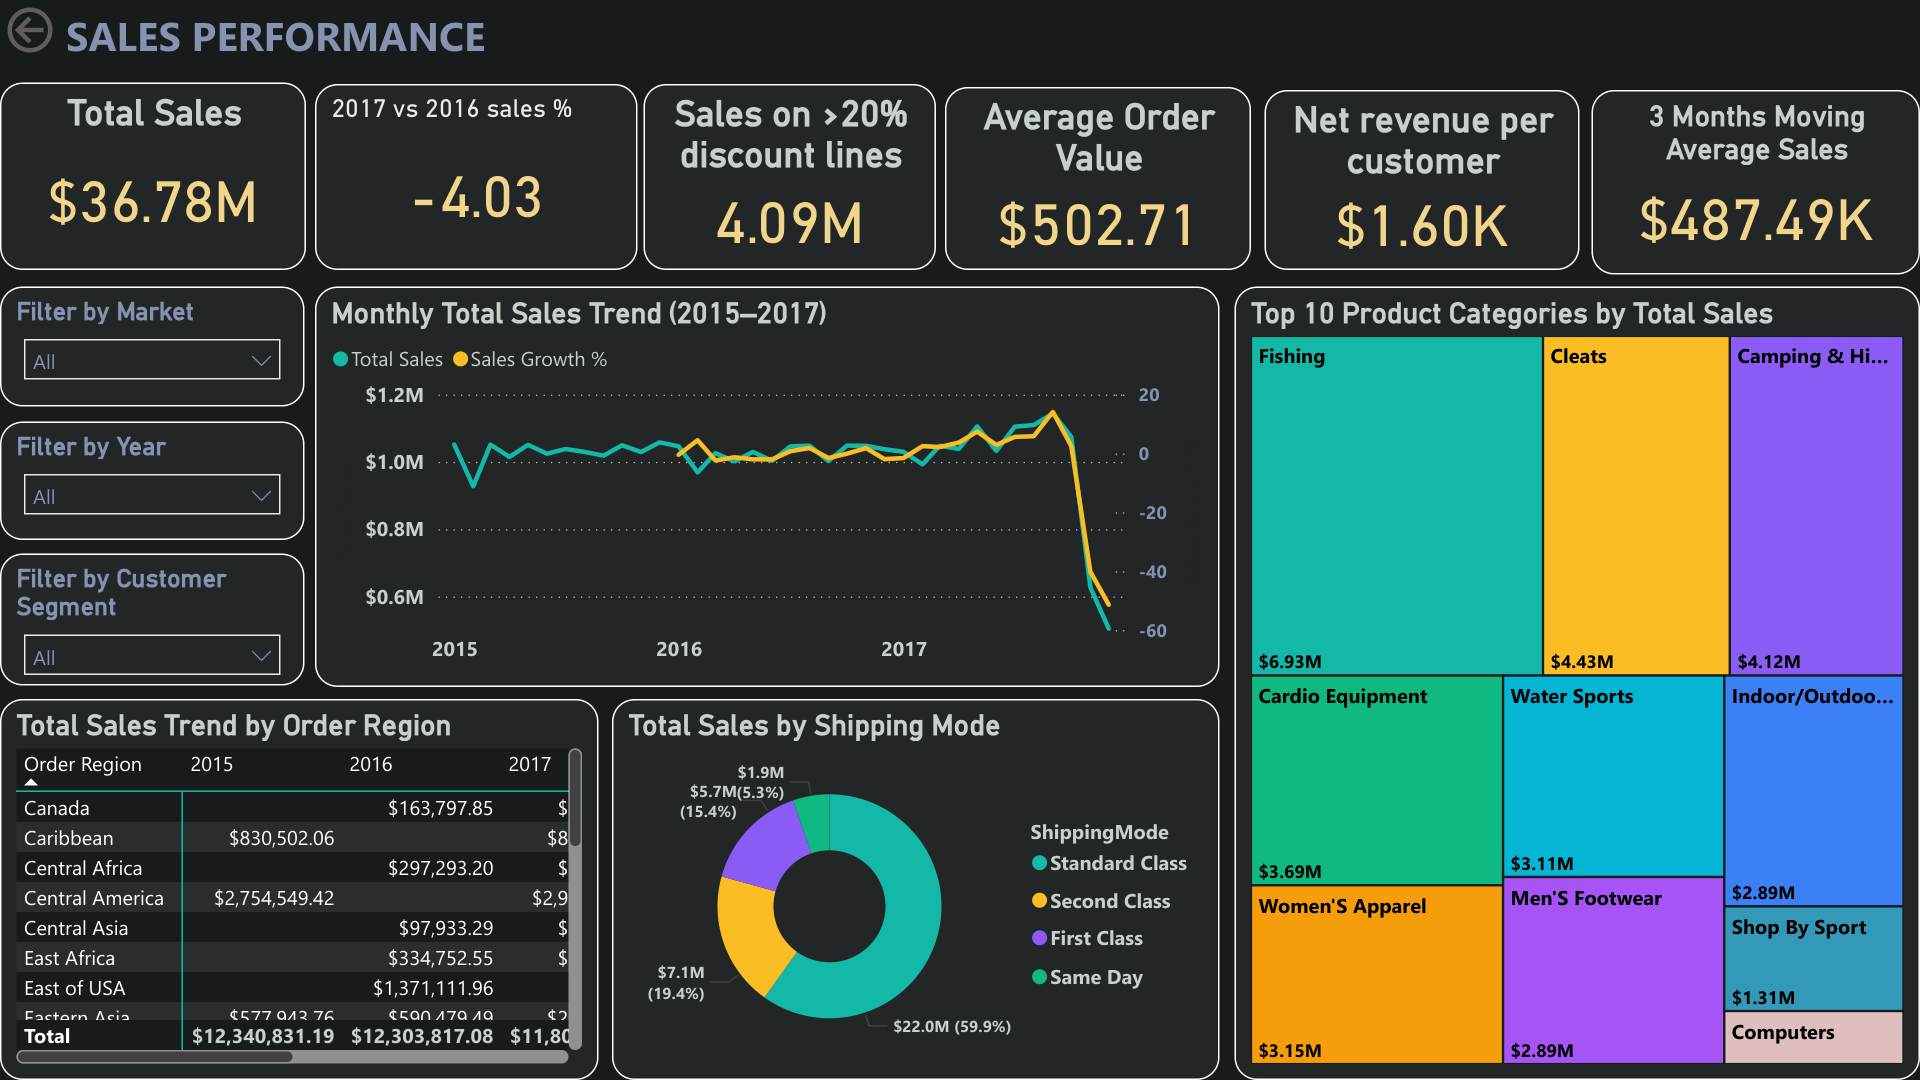

The dashboard page shown, as its layout file describes it:
{"tool":"powerbi","page":{"name":"Sales Performance","canvas":[1280,720],"ordinal":2},"visuals":[{"type":"card","title":"Total Sales","fields":{"Values":["FactOrderItem.Total Sales"]},"box":[0,55.5,203.6,124.5],"z":0},{"type":"card","title":"2017 vs 2016 sales %","fields":{"Values":["DimDate.Latest Full-Year Sales Growth %"]},"box":[210,56.4,215.5,123.6],"z":1000},{"type":"card","title":"Sales on >20% discount lines","fields":{"Values":["FactOrderItem.High Discount Orders Impact"]},"box":[429.1,56.4,194.5,123.6],"z":2000},{"type":"card","title":"Average Order Value","fields":{"Values":["FactOrderItem.Avg Order Value"]},"box":[630,57.5,203.8,122.5],"z":3000},{"type":"lineChart","title":"Monthly Total Sales Trend (2015–2017)","fields":{"Y":["FactOrderItem.Total Sales"],"Y2":["DimDate.Sales Growth %"],"Category":["DimDate.MonthYear"]},"box":[210,191.2,602.5,266.2],"z":4000},{"type":"card","title":"3 Months Moving Average Sales","fields":{"Values":["DimDate.Sales 3M Moving Avg"]},"box":[1061.2,60,218.8,122.5],"z":5000},{"type":"donutChart","title":"Total Sales by Shipping Mode","fields":{"Category":["DimShipping.ShippingMode"],"Y":["FactOrderItem.Total Sales"]},"box":[407.5,466.2,405,253.8],"z":6000},{"type":"pivotTable","title":"Total Sales Trend by Order Region","fields":{"Rows":["DimLocation.OrderRegion"],"Values":["FactOrderItem.Total Sales"],"Columns":["DimDate.Year"]},"box":[0,466.2,398.8,253.8],"z":7000},{"type":"textbox","box":[38.8,0,295,46.2],"z":8000},{"type":"slicer","title":"Filter by Market","fields":{"Values":["DimLocation.Market"]},"box":[0,190.7,203.5,80.2],"z":9000},{"type":"slicer","title":"Filter by Year","fields":{"Values":["DimDate.Year"]},"box":[0,281.4,203.5,79.1],"z":10000},{"type":"slicer","title":"Filter by Customer Segment","fields":{"Values":["DimCustomer.CustomerSegment"]},"box":[0,368.6,203.5,88.4],"z":11000},{"type":"card","title":"Net revenue per customer","fields":{"Values":["FactOrderItem.Sales per Customer"]},"box":[842.5,60,210,120],"z":12000},{"type":"treemap","title":"Top 10 Product Categories by Total Sales","fields":{"Group":["DimProduct.CategoryName"],"Values":["FactOrderItem.Total Sales"]},"box":[822.5,191.2,457.5,528.8],"z":13000},{"type":"actionButton","box":[0,0,100,40],"z":14000}]}

Visuals, with their boxes in screenshot pixels (x1, y1, x2, y2), scaled from the page's 1280x720 canvas onto the 1920x1080 screenshot:
"Total Sales" card: bbox(0, 83, 305, 270)
"2017 vs 2016 sales %" card: bbox(315, 85, 638, 270)
"Sales on >20% discount lines" card: bbox(644, 85, 935, 270)
"Average Order Value" card: bbox(945, 86, 1251, 270)
"Monthly Total Sales Trend (2015–2017)" lineChart: bbox(315, 287, 1219, 686)
"3 Months Moving Average Sales" card: bbox(1592, 90, 1919, 274)
"Total Sales by Shipping Mode" donutChart: bbox(611, 699, 1219, 1079)
"Total Sales Trend by Order Region" pivotTable: bbox(0, 699, 598, 1079)
textbox: bbox(58, 0, 501, 69)
"Filter by Market" slicer: bbox(0, 286, 305, 406)
"Filter by Year" slicer: bbox(0, 422, 305, 541)
"Filter by Customer Segment" slicer: bbox(0, 553, 305, 686)
"Net revenue per customer" card: bbox(1264, 90, 1579, 270)
"Top 10 Product Categories by Total Sales" treemap: bbox(1234, 287, 1919, 1079)
actionButton: bbox(0, 0, 150, 60)
